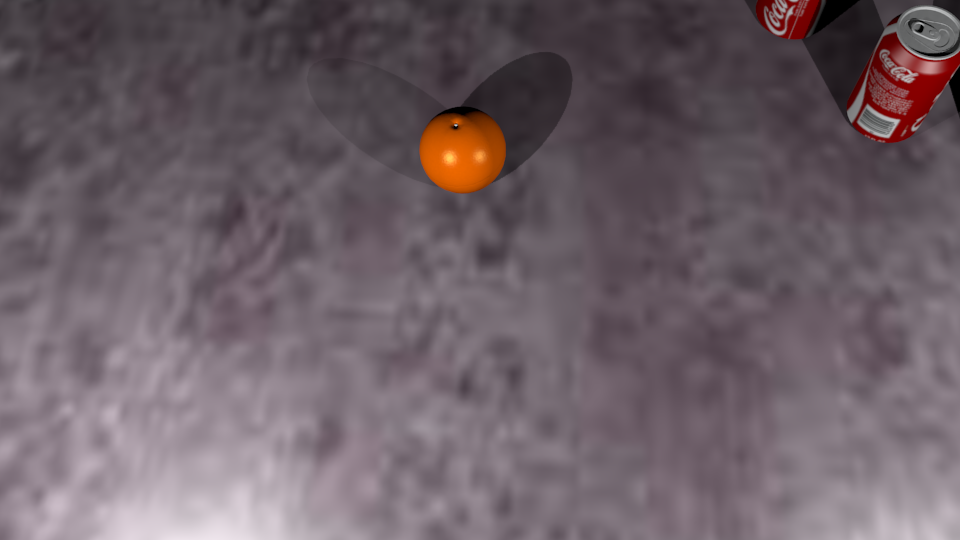cola_can: (847, 6, 960, 143), (757, 1, 834, 40)
orange: (420, 116, 506, 194)
